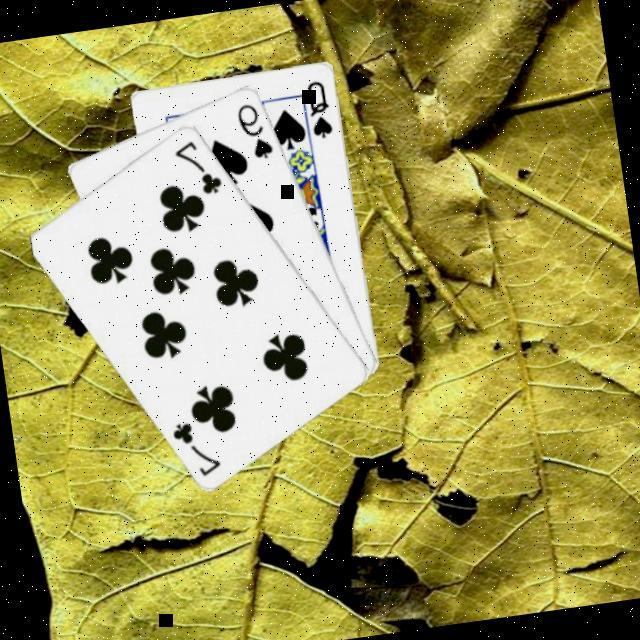7C: (170, 415, 228, 483), (172, 134, 229, 202)
9S: (235, 99, 279, 165)
QS: (305, 76, 340, 143)
